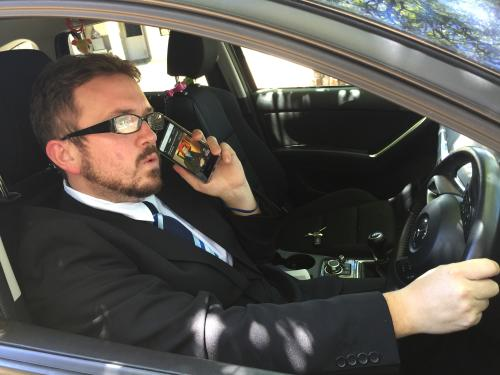phone: (143, 108, 224, 183)
talk: (95, 97, 244, 214)
